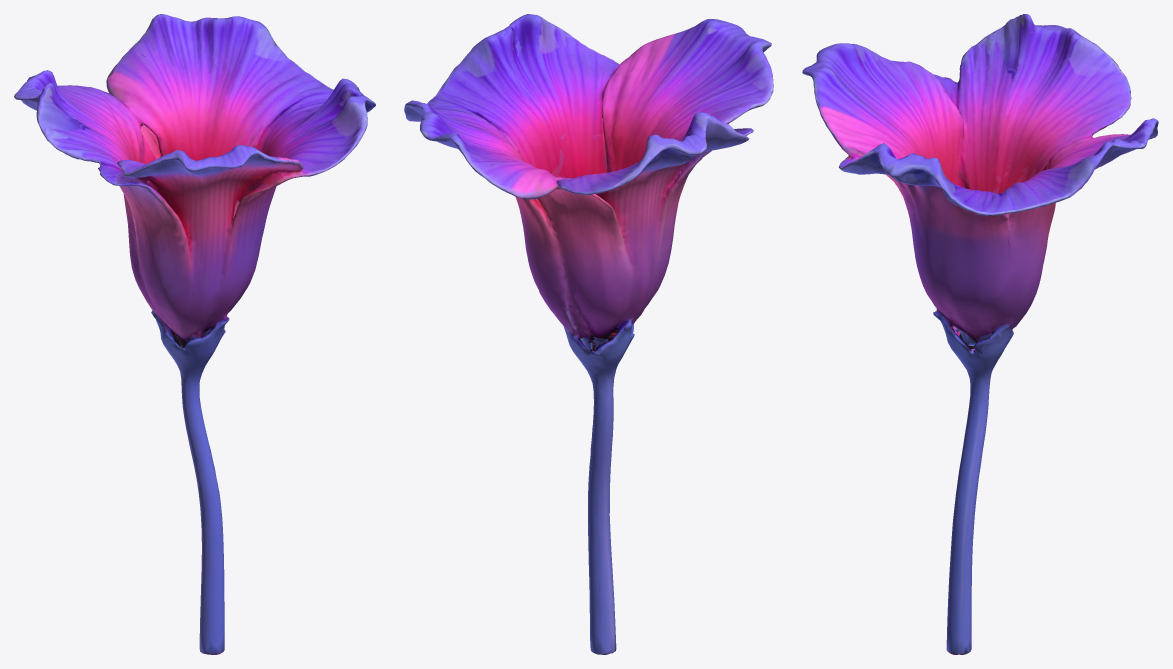
The model's file is refined_019aadc1-70bd-7f56-84c7-aefdf1835696.fbx.
3 views of the same model, side by side, from view 1: azimuth 30°, elevation 25°; view 2: azimuth 150°, elevation 25°; view 3: azimuth 270°, elevation 25° (orthographic). The views are drawn at different scales.
Visible parts, largest first — view 1: Mesh1.0; view 2: Mesh1.0; view 3: Mesh1.0.
Part boxes in pixels (x1,y1,x2,y2): Mesh1.0: (14,14,375,654); Mesh1.0: (404,14,773,654); Mesh1.0: (802,14,1158,654).
Size of the model in its own units: 105 by 191 by 108.
Materials: 1 (1 with a texture image).
